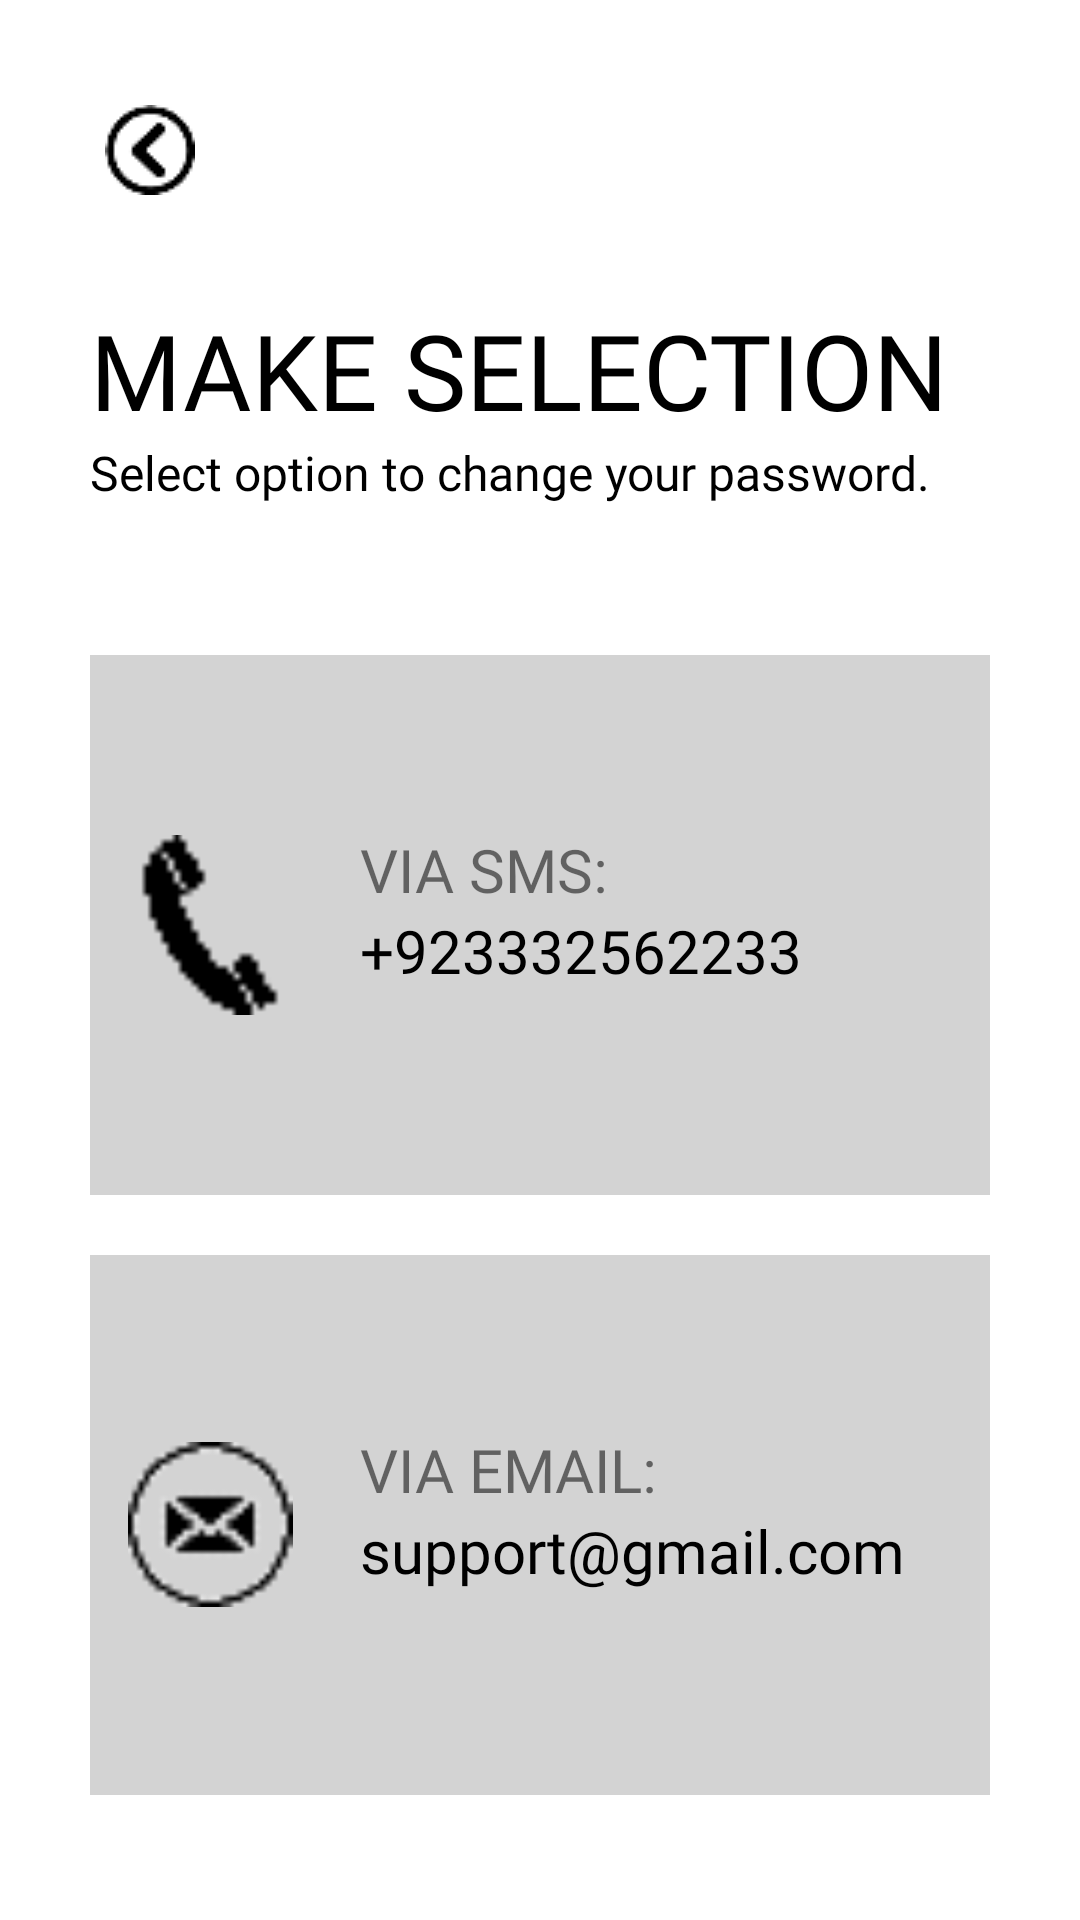

Named icons in this screenshot (1080px x 1920px) and their centers, (x,y):
backbtn: (150,150)
number: (210,925)
